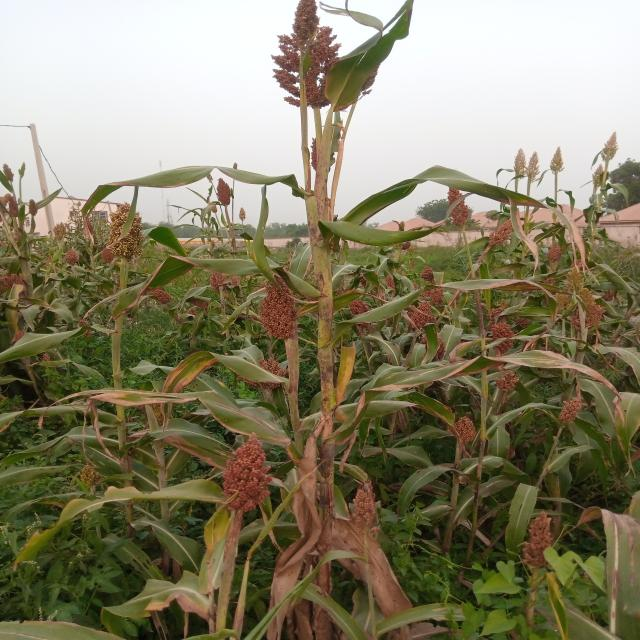RipeSorghum: (268, 0, 342, 119), (200, 439, 298, 527), (250, 272, 308, 362)
